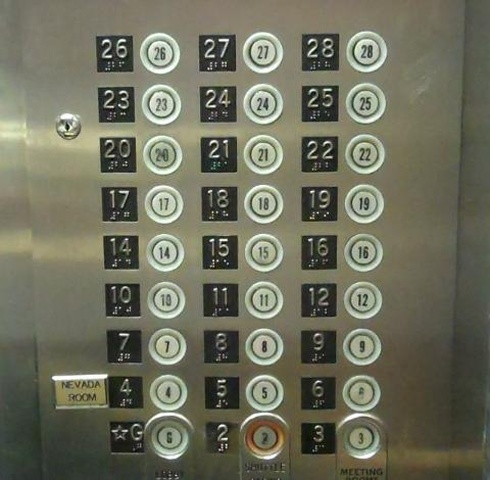10: (146, 279, 187, 320), (102, 280, 142, 319)
11: (200, 279, 241, 319), (243, 279, 284, 319)
12: (297, 280, 341, 320), (341, 280, 385, 320)
14: (100, 232, 142, 272), (145, 232, 187, 272)
15: (199, 231, 242, 273), (242, 231, 285, 273)
16: (298, 230, 341, 272), (342, 231, 385, 273)
17: (98, 182, 141, 224), (142, 182, 185, 224)
18: (197, 183, 240, 225), (243, 183, 286, 225)
19: (298, 181, 341, 223), (343, 182, 386, 224)
2: (239, 410, 292, 463), (203, 419, 238, 456)
20: (95, 133, 138, 175), (142, 133, 185, 175)
21: (197, 133, 240, 175), (241, 133, 284, 175)
22: (299, 132, 342, 174), (343, 132, 386, 174)
23: (95, 83, 138, 125), (139, 83, 182, 125)
24: (197, 82, 240, 124), (242, 82, 285, 124)
25: (299, 81, 342, 123), (344, 82, 387, 124)
26: (138, 31, 181, 75), (93, 32, 136, 74)
27: (195, 32, 238, 74), (241, 31, 284, 73)
28: (298, 31, 341, 73), (344, 30, 387, 72)
3: (334, 410, 387, 460), (296, 417, 338, 457)
4: (105, 373, 145, 412), (148, 372, 188, 411)
5: (202, 373, 242, 411), (244, 373, 284, 411)
6: (297, 372, 339, 412)
7: (104, 326, 144, 365), (146, 326, 186, 365)
8: (243, 326, 285, 366), (201, 327, 241, 365)
9: (298, 326, 340, 366), (340, 327, 382, 367)
G: (144, 411, 196, 462)
blur: (341, 373, 383, 413)
keyhole: (52, 110, 83, 144)
sG: (105, 417, 145, 456)
